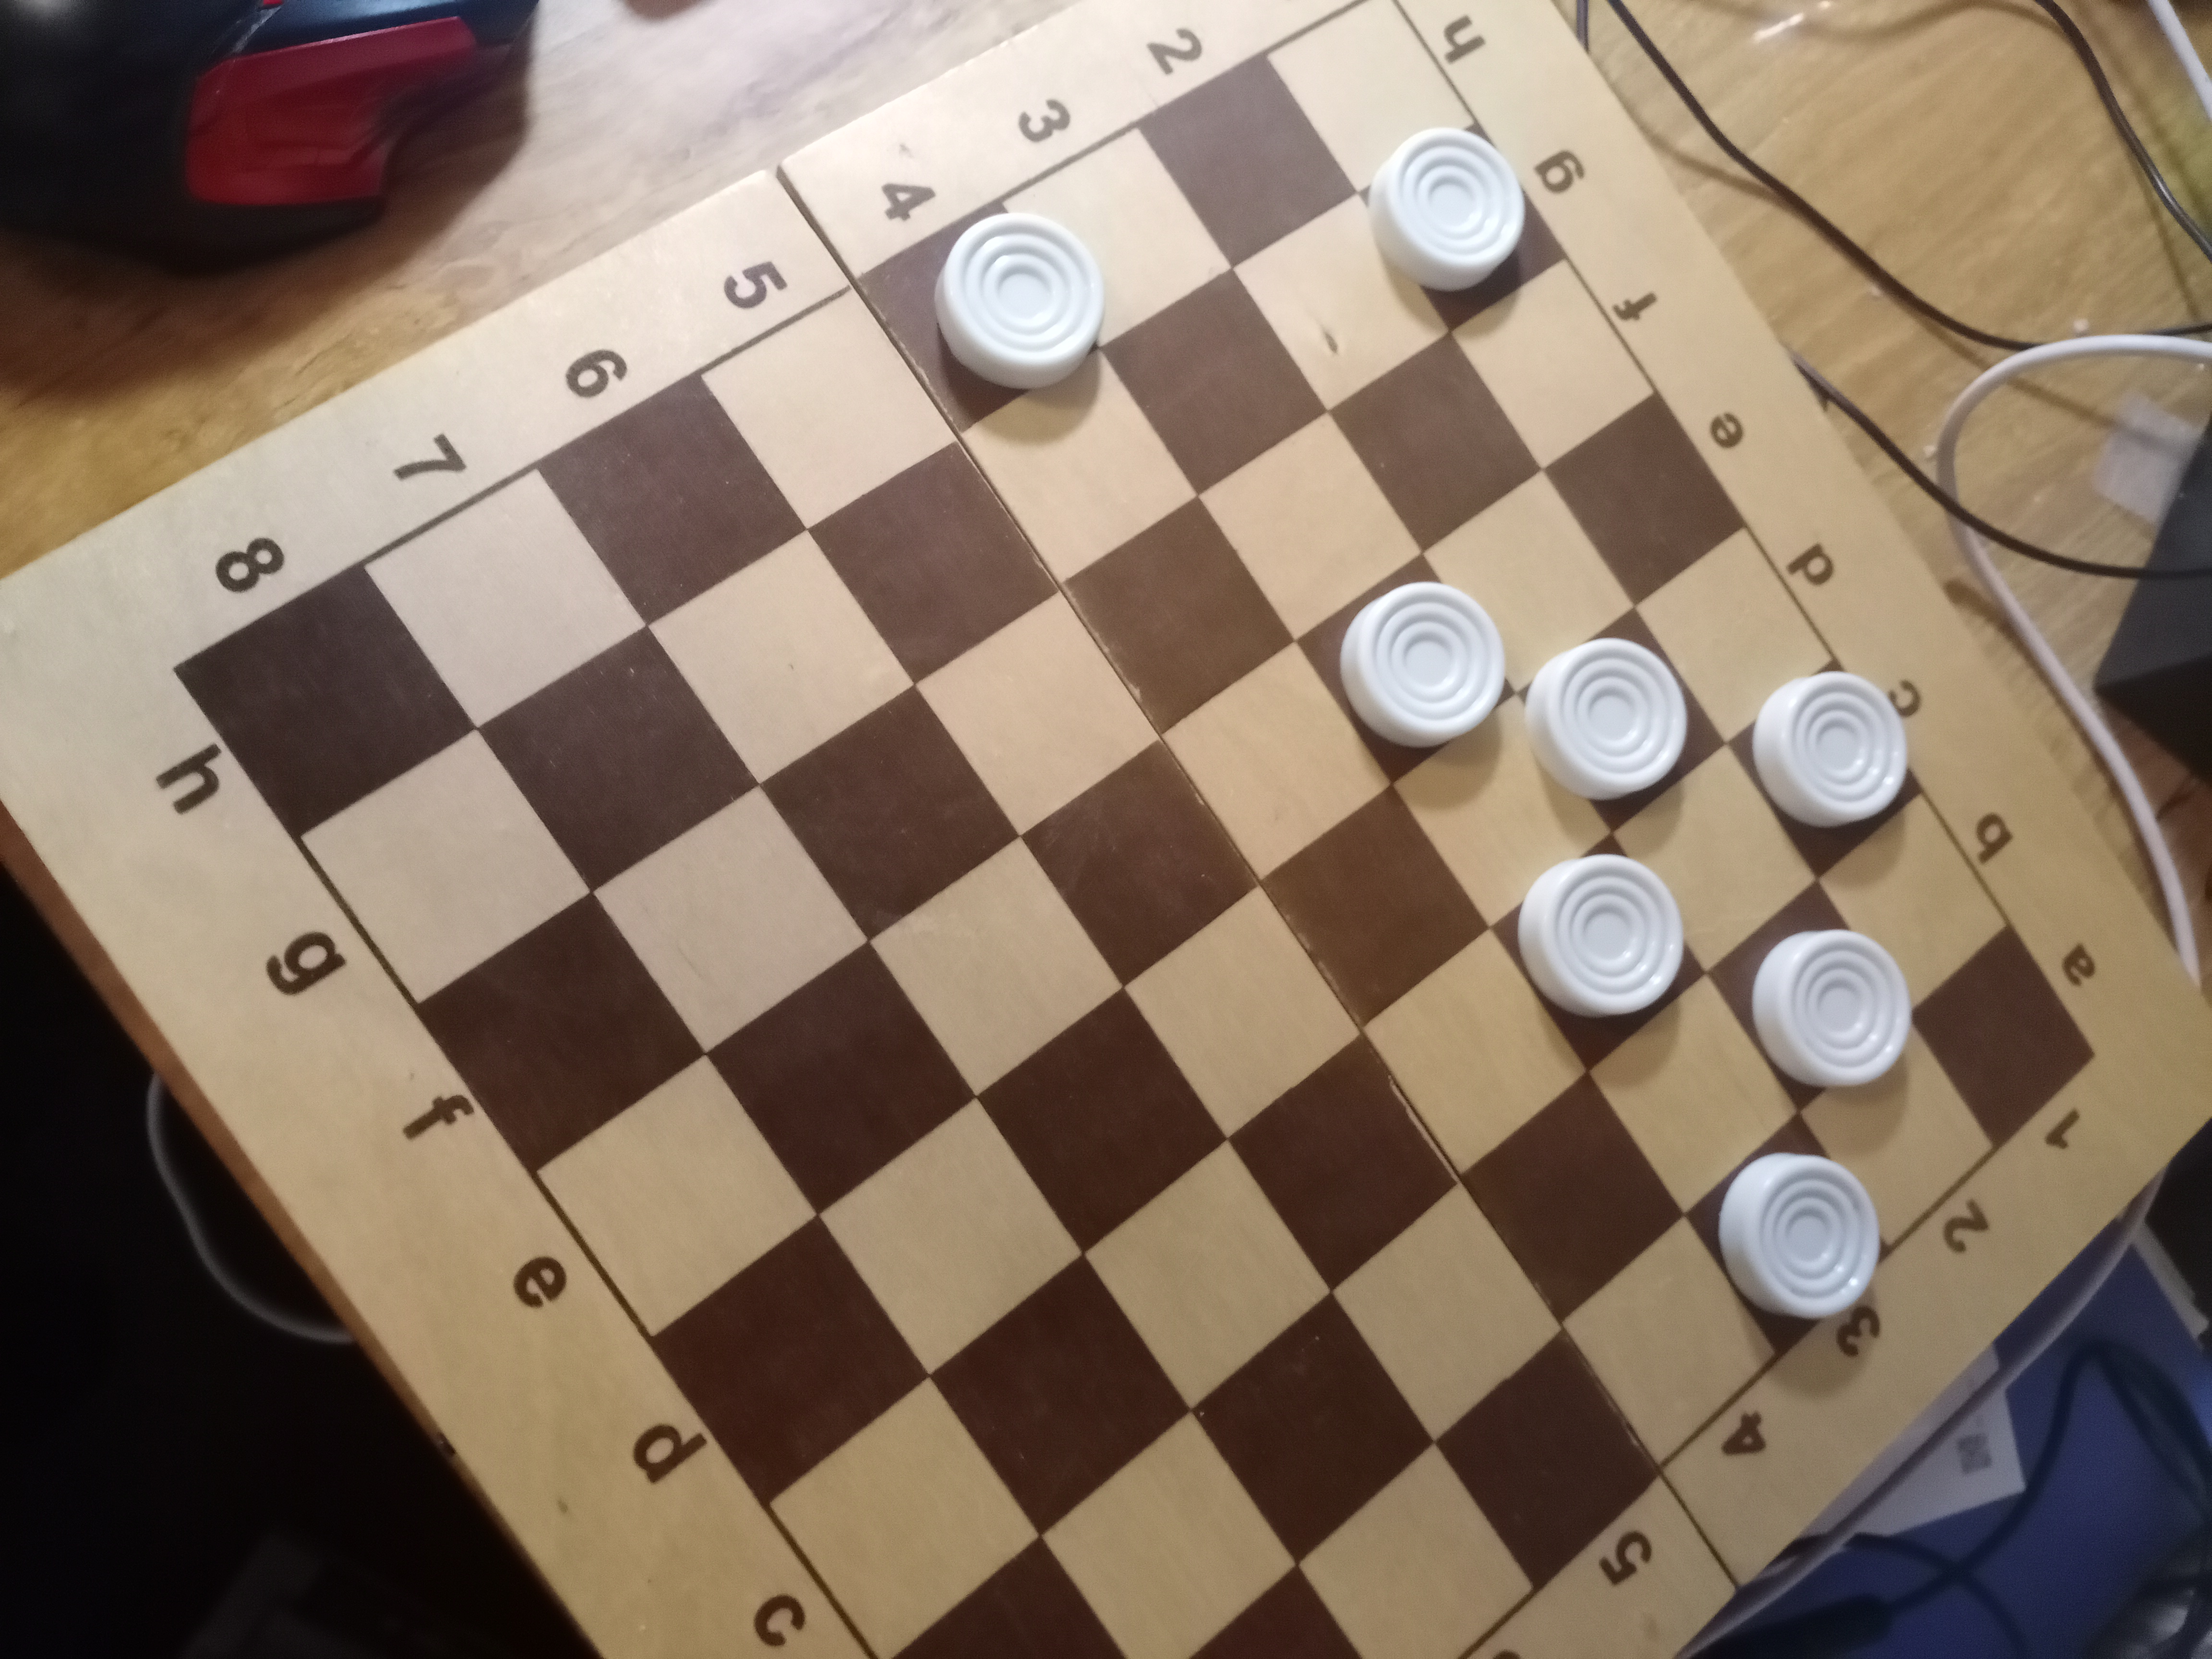White_Draught: (855, 206, 1106, 434), (1491, 829, 1707, 1070), (1294, 552, 1517, 784), (1684, 1114, 1893, 1354), (1707, 878, 1912, 1115), (1517, 606, 1726, 831), (1360, 124, 1568, 331), (1726, 662, 1921, 880)
